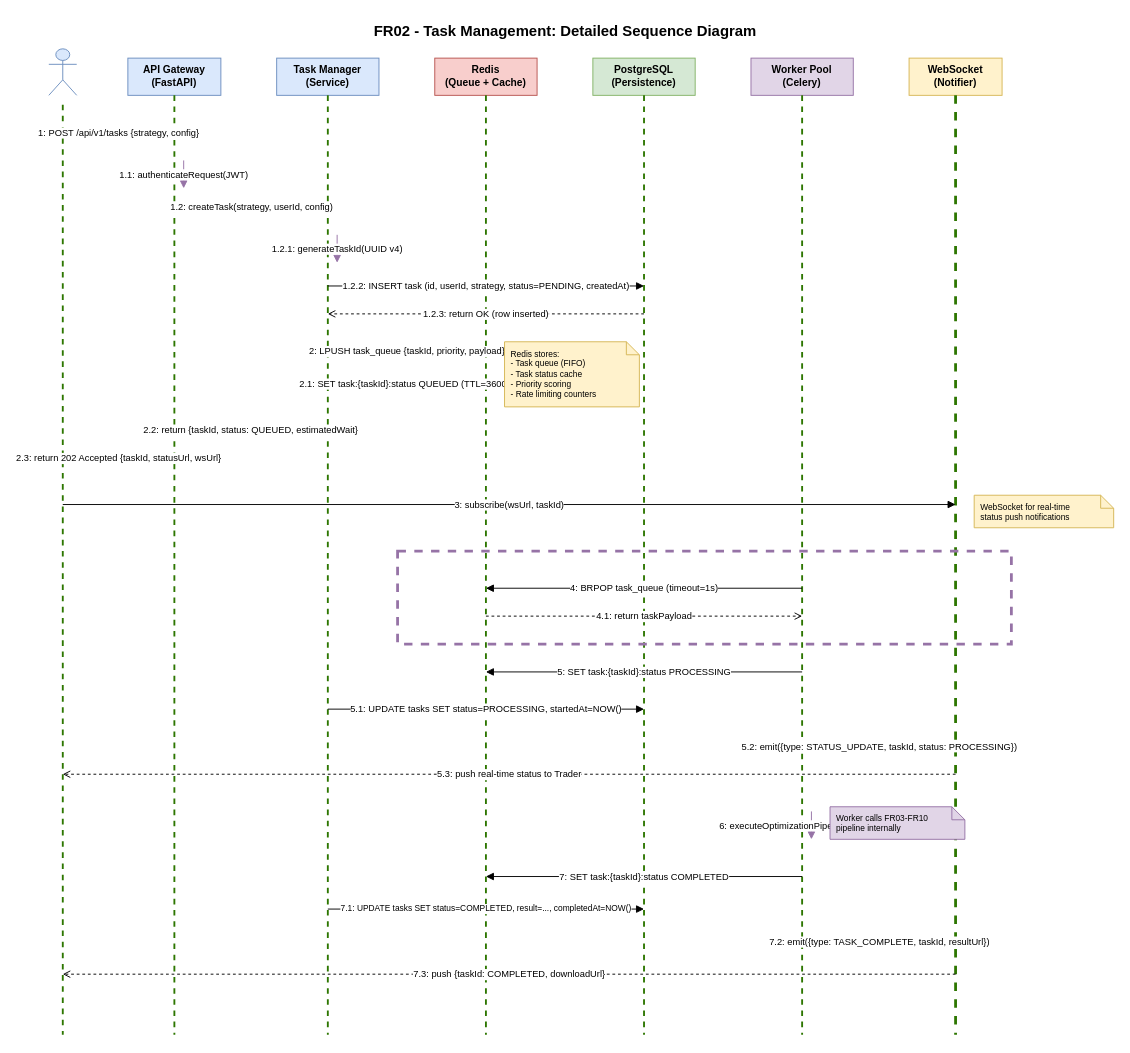
Image size: 1130x1053. Some labels were removed from this diagram. The shapes that lost their labels are listed below. From the top down, each one's centre as x and y in pixels, then its label:
point 62,71: Trader (Actor)
point 704,597: loop [Worker polls queue every 100ms]
